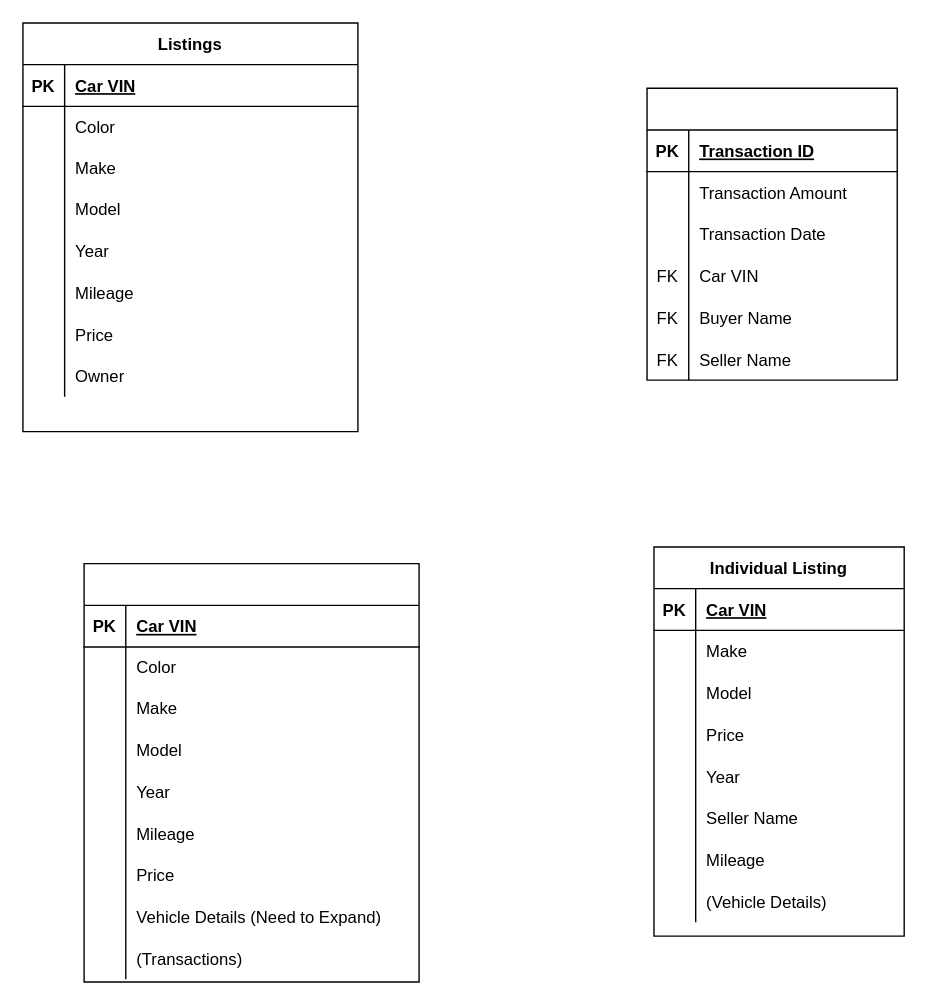
Some shapes in this 927 by 1005 pixel diagram are drawn without their labels. The box of each missing label's shape, as (x1, y1, x2, y2) in pixels:
Account Listings: (83, 562, 419, 982)
User Transaction: (646, 87, 897, 380)
